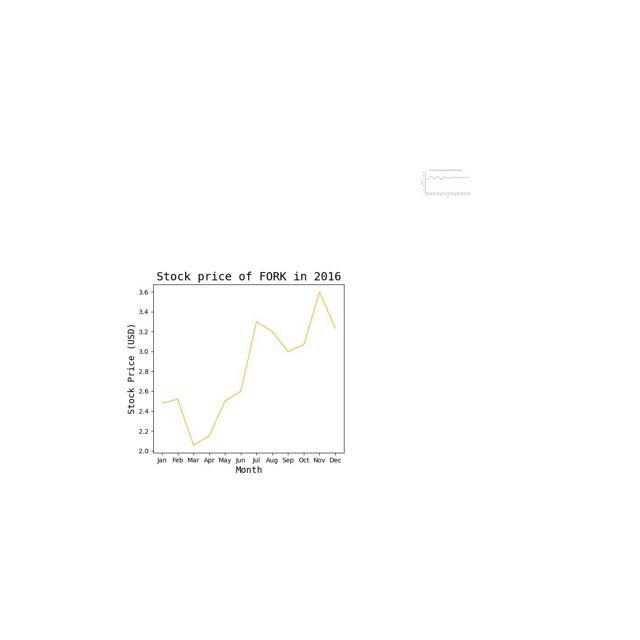Graph: (99, 258, 391, 477), (420, 168, 472, 198)
